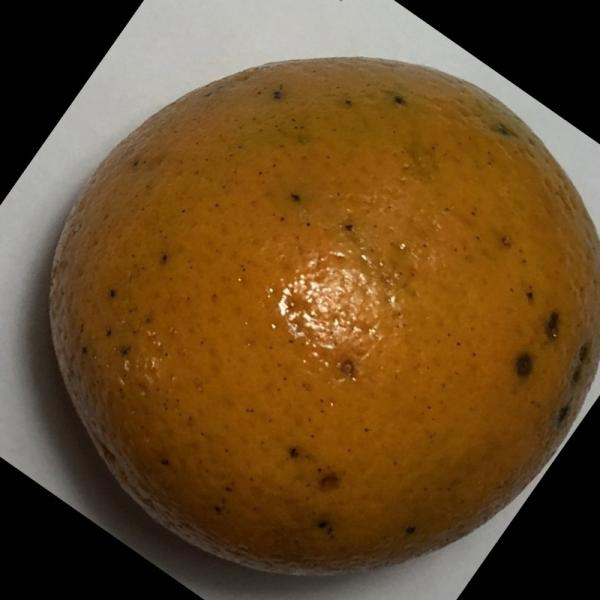Machas negras: (16, 37, 598, 585)
